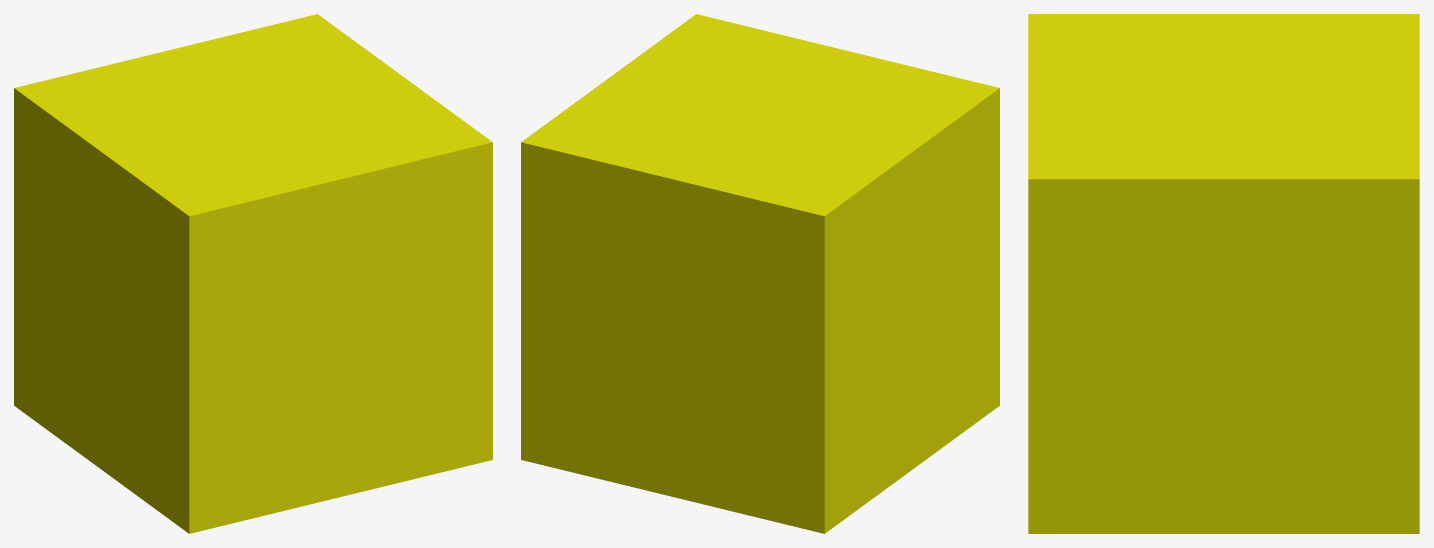
The model's file is cubeMap.fbx.
3 views of the same model, side by side, from view 1: azimuth 30°, elevation 25°; view 2: azimuth 150°, elevation 25°; view 3: azimuth 270°, elevation 25° (orthographic). The views are drawn at different scales.
Visible parts, largest first — view 1: cubeMap; view 2: cubeMap; view 3: cubeMap.
Boxes of the visible parts, left/top/right/bottom form: cubeMap: left=14, top=14, right=492, bottom=533; cubeMap: left=521, top=14, right=999, bottom=533; cubeMap: left=1028, top=14, right=1419, bottom=533.
Size of the model in its own units: 2.5 by 2.5 by 2.5.
